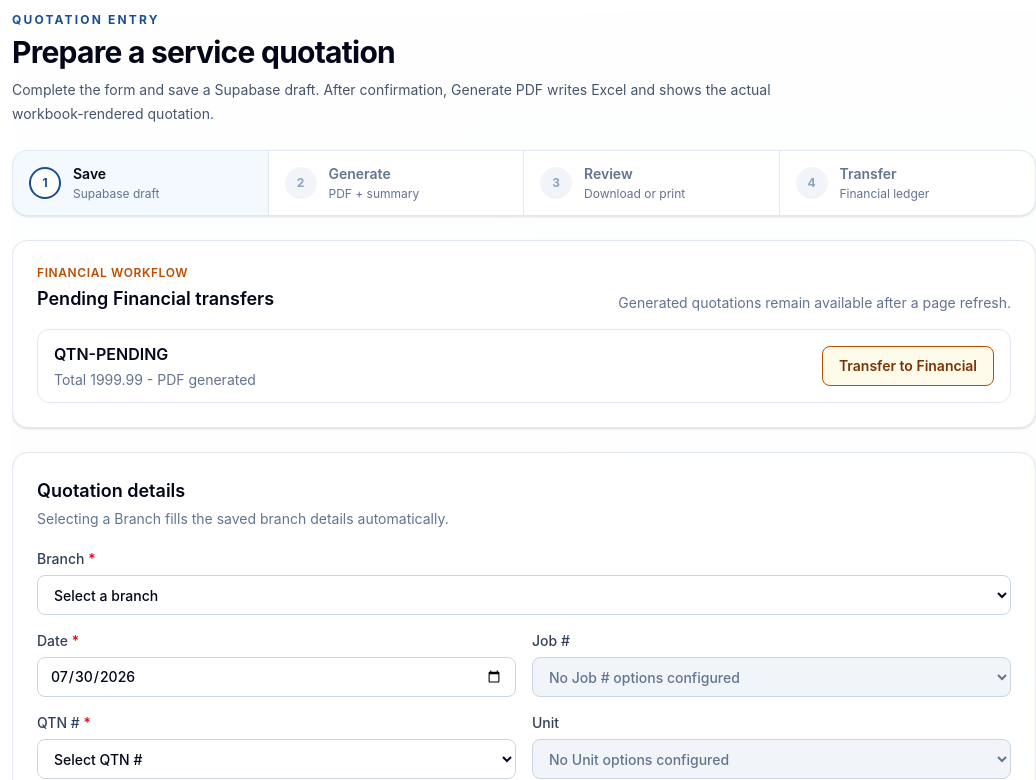
it: QuotationEntryPage › resumes a pending Financial transfer after page refresh
Check: the text "QTN-PENDING" is shown, box [54,344,168,364]
Click the button "Transfer to Financial" at (908, 366), box [822,346,994,386]
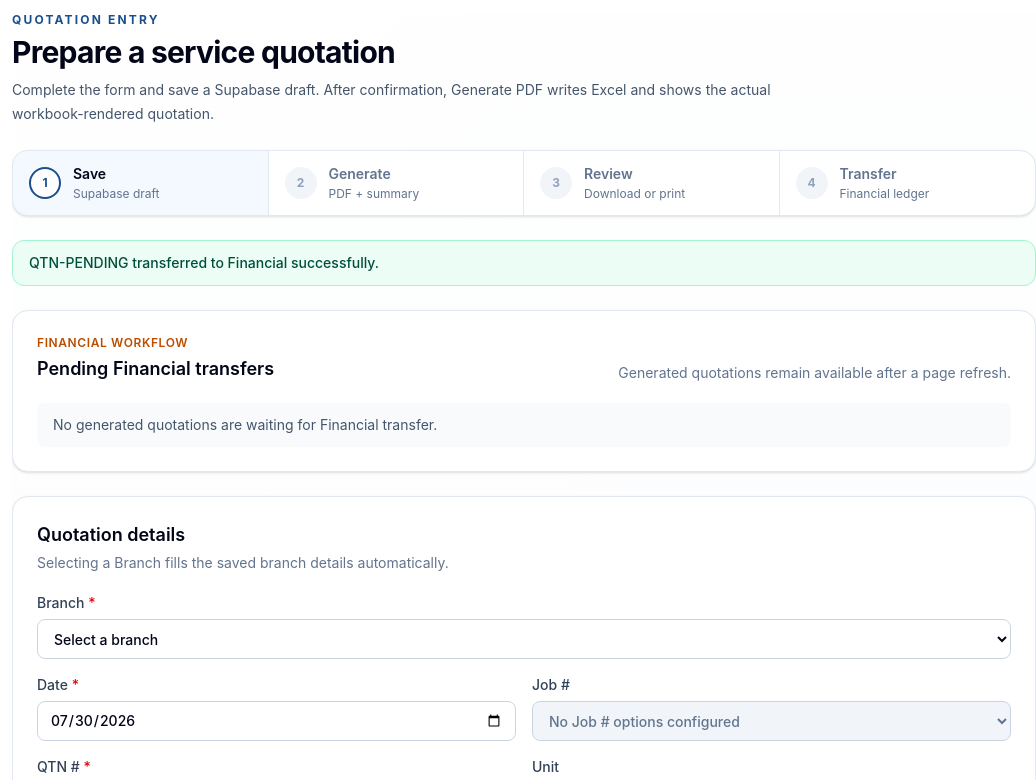
Check: the text "QTN-PENDING transferred to Financial successfully." is shown, box [12,240,1035,286]
Check: the text "No generated quotations are waiting for Financial transfer." is shown, box [37,403,1011,447]
